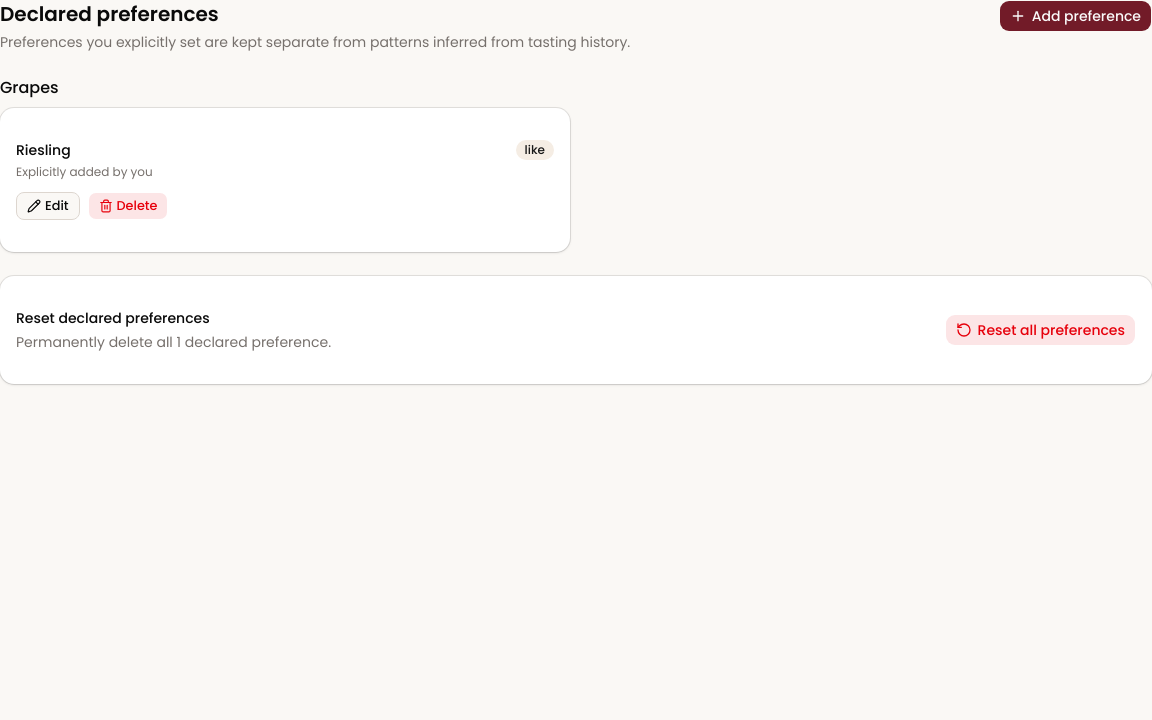
TastePreferences › confirms an edit before closing and restoring focus
The image size is (1152, 720).
Click the button with aria-label "Edit Riesling".
click(48, 206)  # box [16, 192, 80, 220]
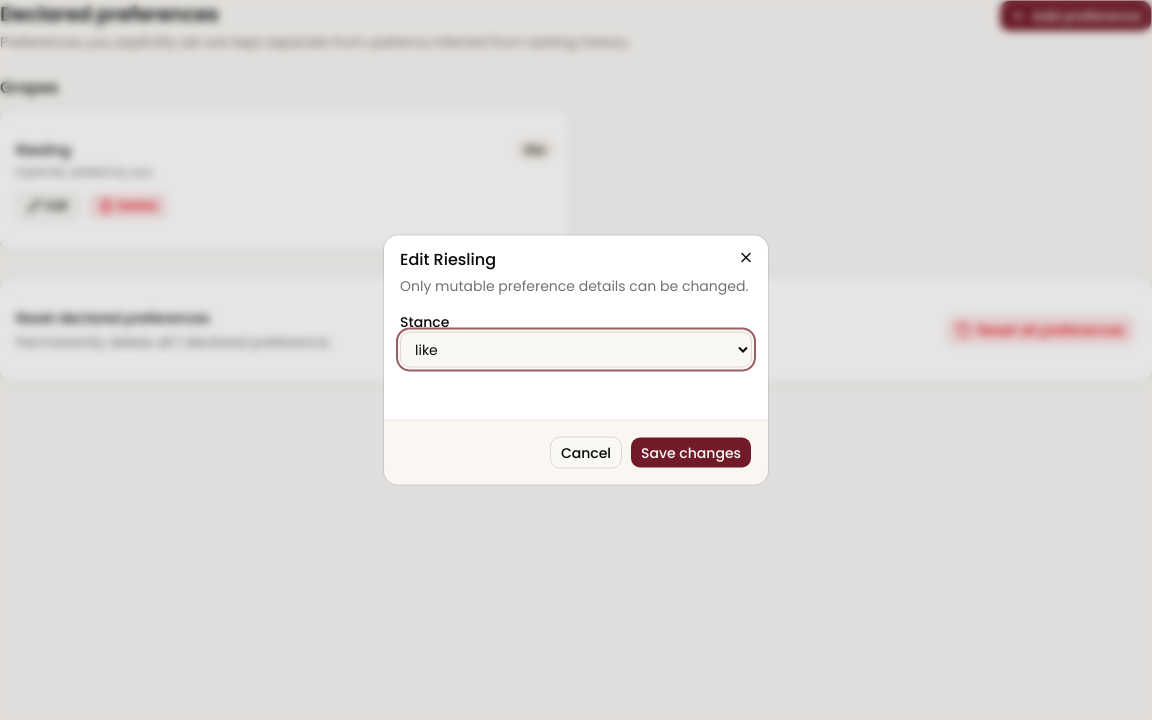
Select "dislike" in the dropdown labelled "Stance" at x=576, y=350, box [400, 332, 752, 368]
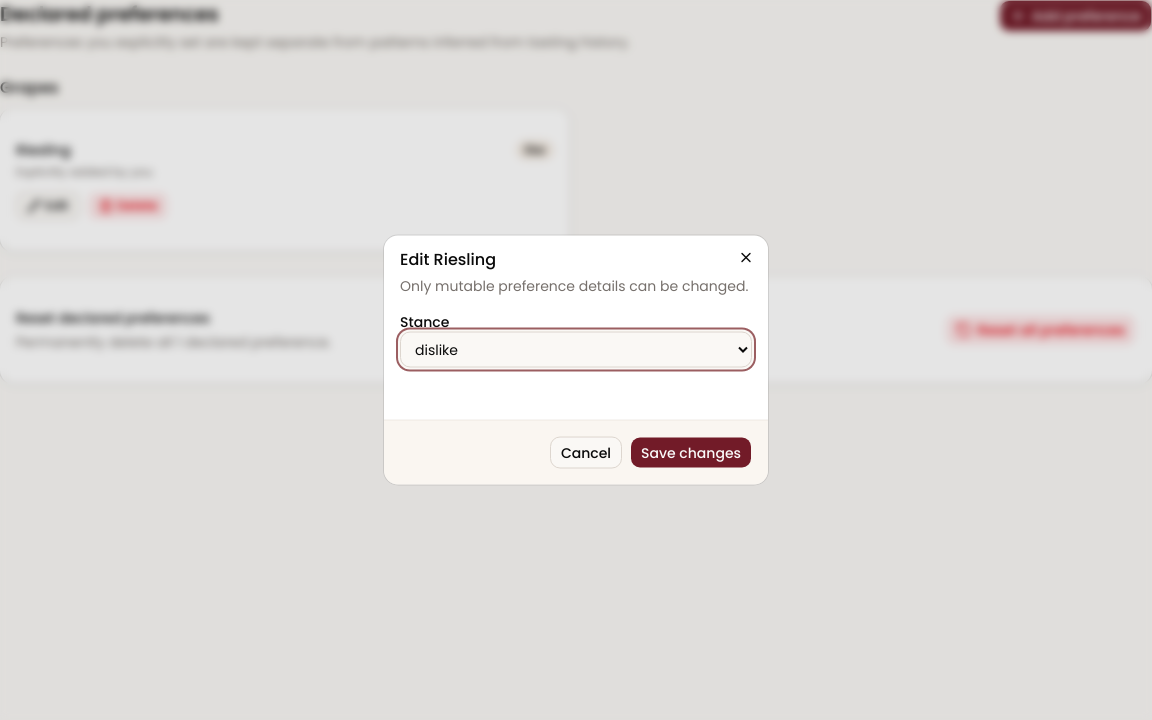
Click the button "Save changes".
click(691, 452)  # box [630, 436, 752, 468]
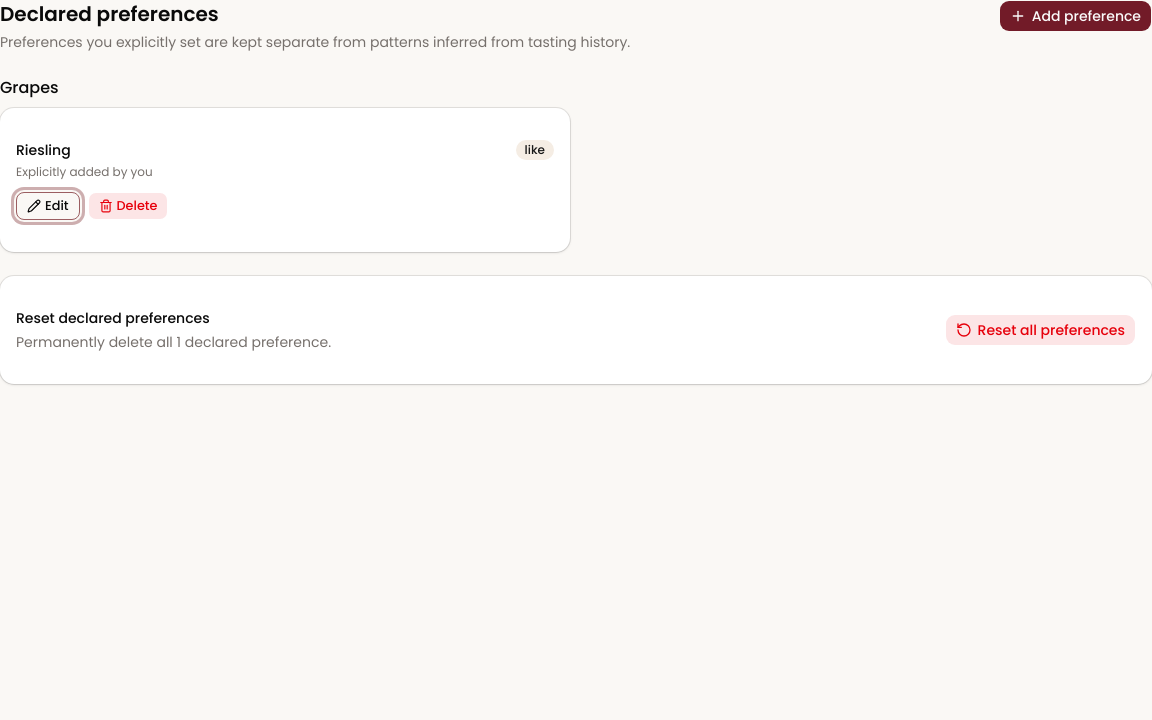
Check: the dialog is gone
